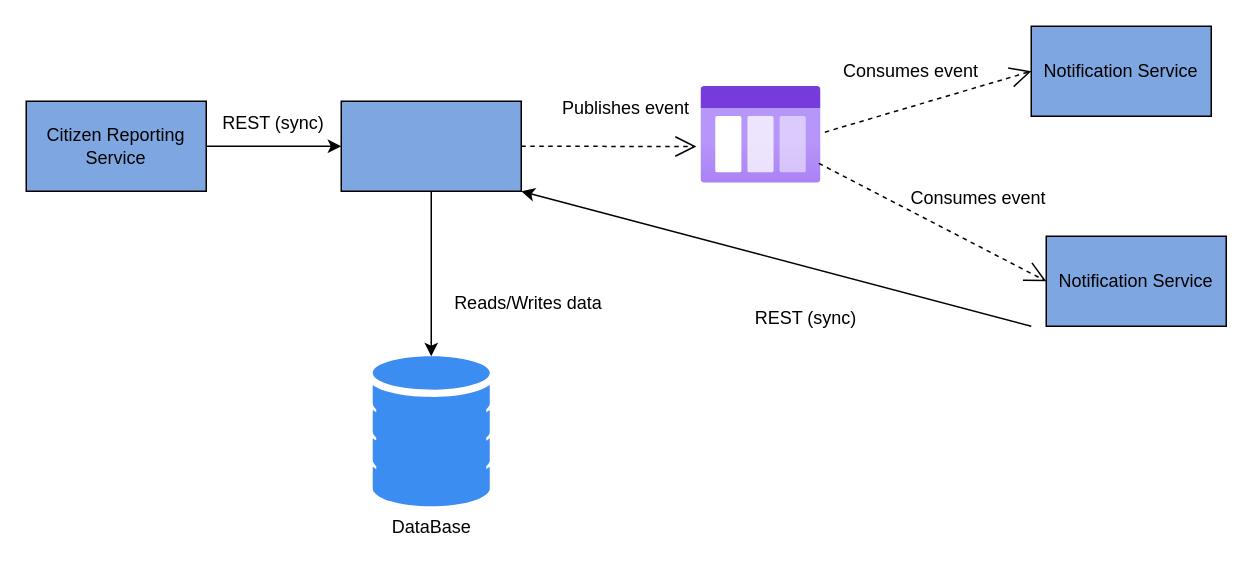
Some shapes in this 1253 by 564 pixel diagram are drawn without their labels. Each missing label, with the centre of its shape:
"Event Processing Service" belongs at [430,145].
"Message Broker" belongs at [760,134].
